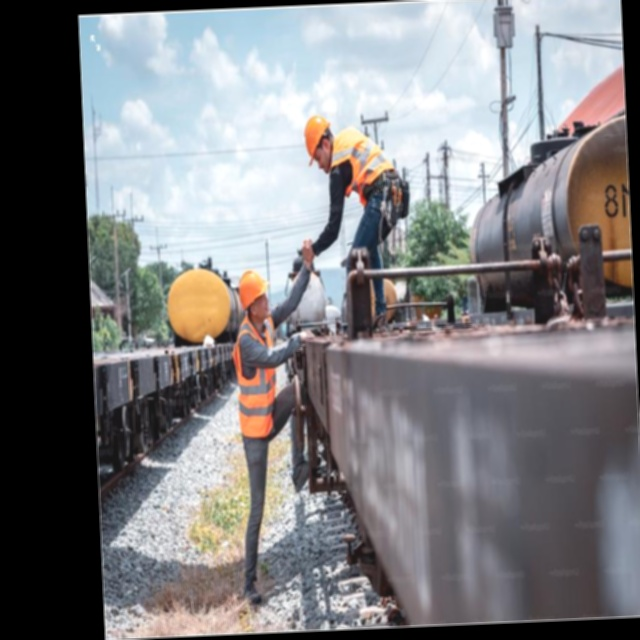Con_Casco: (301, 114, 333, 174), (237, 268, 271, 319)
Con_Chaleco: (233, 319, 280, 436), (332, 127, 396, 200)
